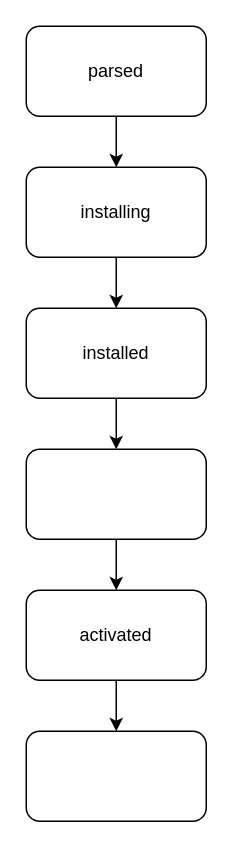
The diagram is 233 pixels wide and 848 high, and some of its shapes have lost their labels. The centre of each missing label's shape, as x and y in pixels:
"activating" goes at (115,493).
"redundant" goes at (115,775).
